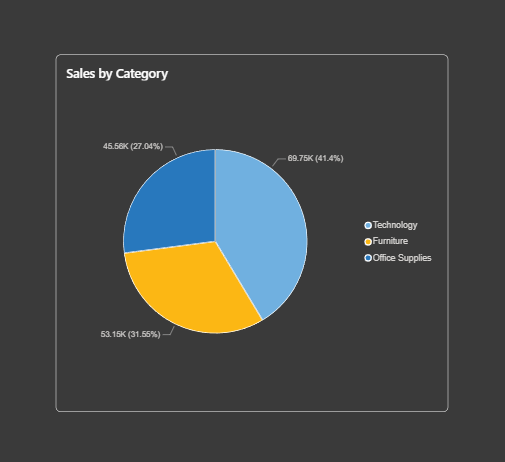

The page's visual inventory and layout, read from the dashboard file:
{"tool":"powerbi","page":{"name":"Sales by Category","canvas":[1920,1080],"ordinal":4},"visuals":[{"type":"pieChart","title":" Sales by Category","fields":{"Category":["Sample - Superstore.Category"],"Y":["Sum(Superstore.Sales)"]},"box":[254,196,628,572],"z":0}]}

Visuals, with their boxes on the page's 1920x1080 design canvas (x1, y1, x2, y2). These are canvas units, not pixel positions in the 505x462 screenshot, which may show the page scaled, cropped or inside an application window:
" Sales by Category" pieChart: select_region(254, 196, 882, 768)
